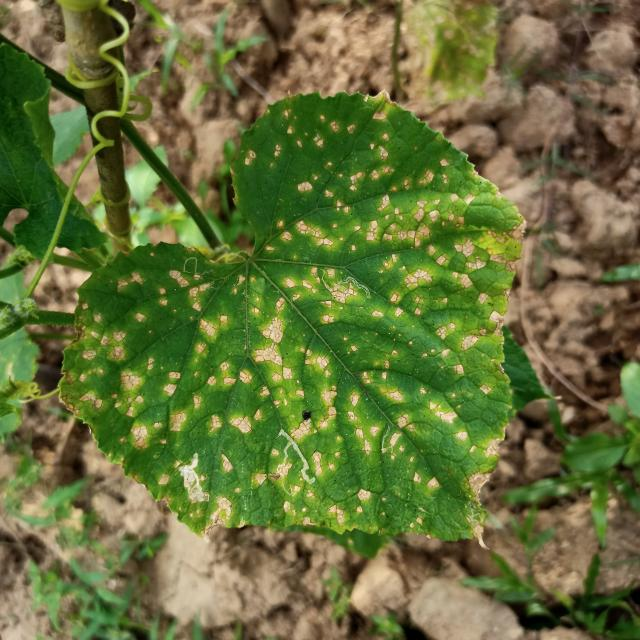disease_cucumber: (76, 111, 502, 543)
